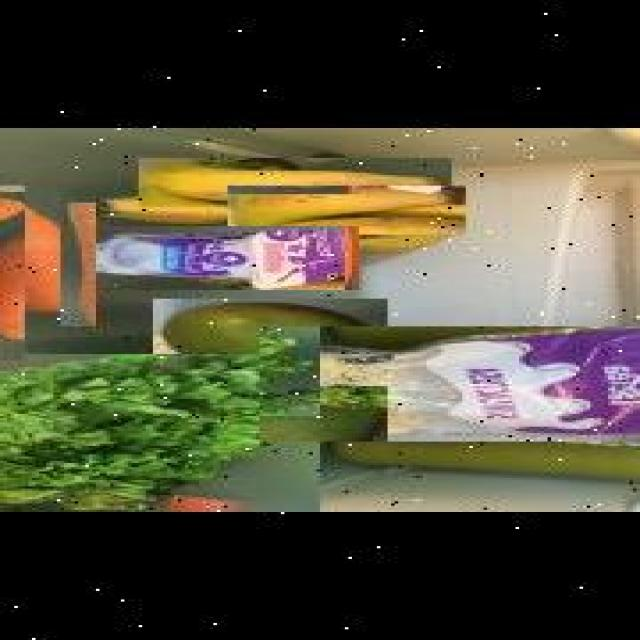banana: (135, 158, 448, 207), (224, 186, 462, 234)
carrot: (0, 186, 68, 360), (0, 202, 92, 326)
grated_cheese: (256, 326, 640, 442)
mango: (149, 299, 384, 384)
salad: (0, 354, 313, 512)
yogurt: (78, 227, 356, 291)
